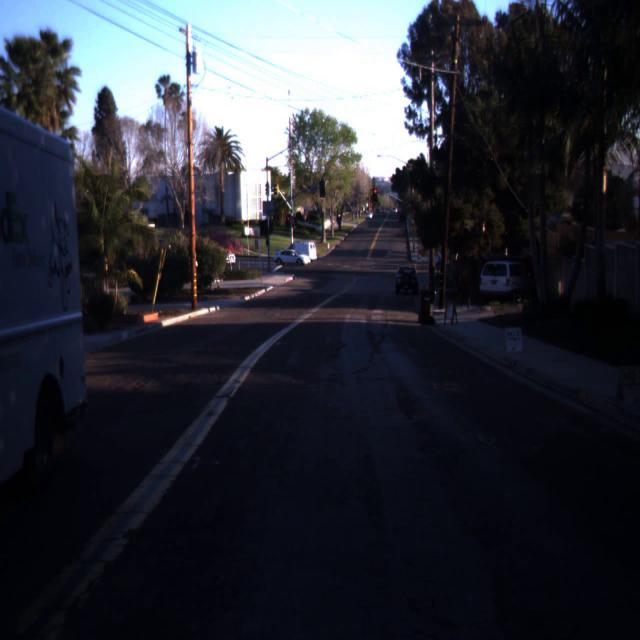stop: (374, 189, 376, 192), (287, 217, 289, 220)
stop traffic light: (372, 188, 378, 200)
